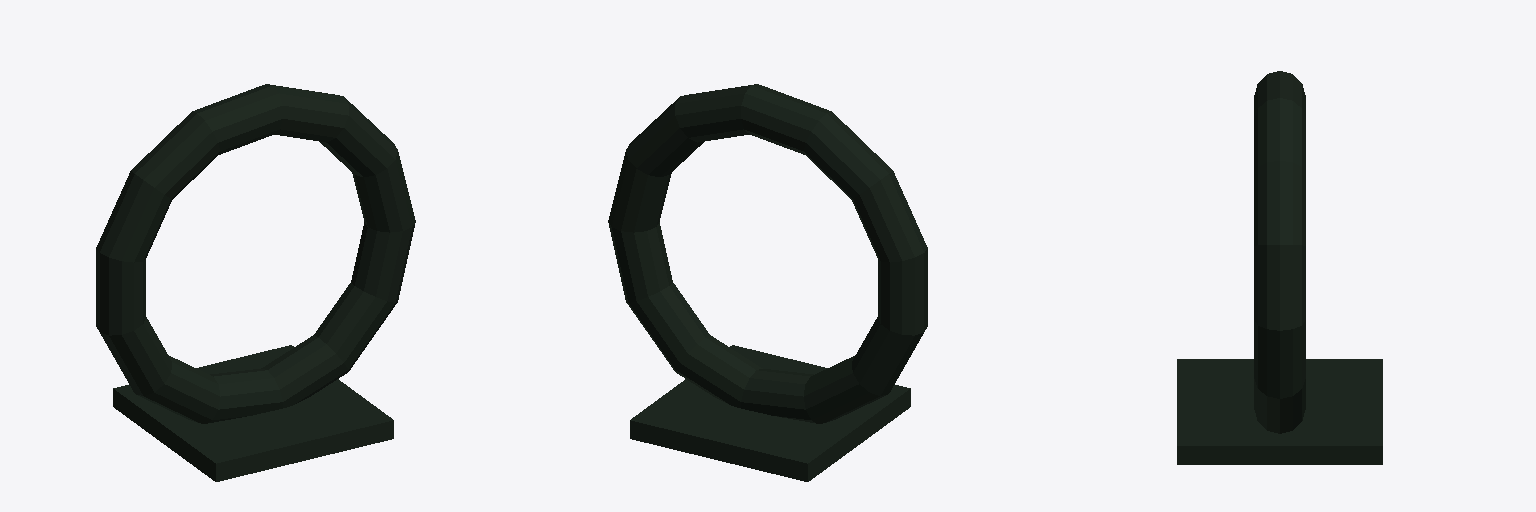
The model's file is Portal.obj.
3 renders of one model, left to right at view 1: azimuth 30°, elevation 25°; view 2: azimuth 150°, elevation 25°; view 3: azimuth 270°, elevation 25°, orthographic.
Parts seen in each view (by area): view 1: Cube; view 2: Cube; view 3: Cube.
Boxes of the visible parts, <box> form: Cube: <box>96,84,415,481</box>; Cube: <box>608,84,927,481</box>; Cube: <box>1177,71,1382,464</box>.
Bounding box in the file's own units: 3.51 × 3.57 × 2.